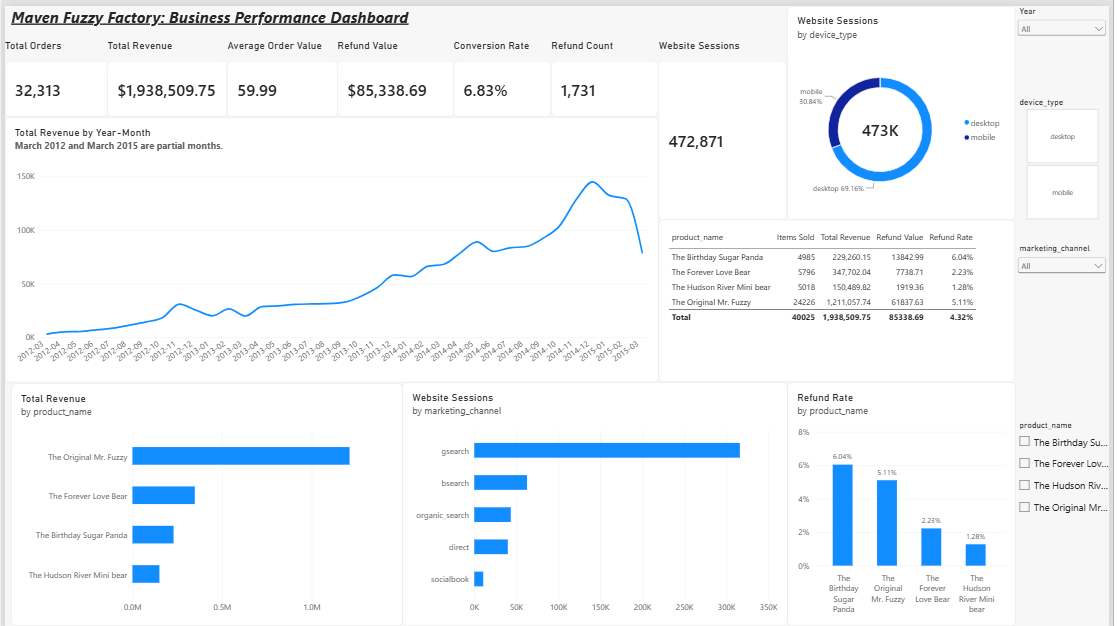

The dashboard page shown, as its layout file describes it:
{"tool":"powerbi","page":{"name":"Page 1","canvas":[1920,1080],"ordinal":0},"visuals":[{"type":"cardVisual","title":"Average Order Value","fields":{"Data":["Date Table.Average Order Value"]},"box":[387,100,191.4,187.9],"z":0},{"type":"cardVisual","title":"Conversion Rate","fields":{"Data":["Date Table.Conversion Rate"]},"box":[780.4,100,169,187.9],"z":1000},{"type":"lineChart","fields":{"Category":["Date Table.Year-Month"],"Y":["Date Table.Total Revenue"]},"box":[0,287,1360.3,367.2],"z":2000},{"type":"clusteredBarChart","fields":{"Category":["products.product_name"],"Y":["Date Table.Total Revenue"]},"box":[10.9,656.5,680.4,421.7],"z":3000},{"type":"clusteredBarChart","fields":{"Category":["website_sessions.marketing_channel"],"Y":["Date Table.Website Sessions"]},"box":[691.3,654.3,669.6,423.9],"z":4000},{"type":"cardVisual","title":"Total Orders","fields":{"Data":["Date Table.Total Orders Display"]},"box":[0,100,179.3,187.9],"z":5000},{"type":"cardVisual","title":"Total Revenue","fields":{"Data":["Date Table.Total Revenue Display"]},"box":[178.3,100,208.6,187.9],"z":6000},{"type":"cardVisual","title":"Refund Value","fields":{"Data":["Date Table.Refund Value Display"]},"box":[578.3,100,201.7,187.9],"z":7000},{"type":"cardVisual","title":"Refund Count","fields":{"Data":["Date Table.Refund Count Display"]},"box":[950,100,187.9,187.9],"z":8000},{"type":"cardVisual","title":"Website Sessions","fields":{"Data":["website_sessions.Website Sessions Display"]},"box":[1137,100,223.9,187],"z":9000},{"type":"donutChart","fields":{"Category":["website_sessions.device_type"],"Y":["Date Table.Website Sessions"]},"box":[1360.3,0,396.6,367.2],"z":10000},{"type":"tableEx","fields":{"Values":["products.product_name","Date Table.Items Sold","Date Table.Total Revenue","Date Table.Refund Value","Date Table.Refund Rate"]},"box":[1360.3,369,396.6,286.2],"z":10001},{"type":"clusteredColumnChart","fields":{"Category":["products.product_name"],"Y":["Date Table.Refund Rate"]},"box":[1360.3,655.2,396.6,424.1],"z":10002},{"type":"slicer","fields":{"Values":["Date Table.Year"]},"box":[1756.9,0,163.8,158.6],"z":10003},{"type":"slicer","fields":{"Values":["website_sessions.device_type"]},"box":[1756.9,158.6,163.8,213.8],"z":10004},{"type":"slicer","fields":{"Values":["website_sessions.marketing_channel"]},"box":[1756.9,412.1,163,286],"z":10005},{"type":"slicer","fields":{"Values":["products.product_name"]},"box":[1756.9,719,163.8,360.3],"z":10006},{"type":"textbox","box":[10.9,0,1350,78.3],"z":10007}]}

Visuals, with their boxes in screenshot pixels (x1, y1, x2, y2), scaled from the page's 1920x1080 canvas onto the 1117x626 screenshot:
"Average Order Value" cardVisual: {"x1": 225, "y1": 58, "x2": 336, "y2": 167}
"Conversion Rate" cardVisual: {"x1": 454, "y1": 58, "x2": 552, "y2": 167}
lineChart - Date Table.Year-Month x Date Table.Total Revenue: {"x1": 0, "y1": 166, "x2": 791, "y2": 379}
clusteredBarChart - products.product_name x Date Table.Total Revenue: {"x1": 6, "y1": 381, "x2": 402, "y2": 625}
clusteredBarChart - website_sessions.marketing_channel x Date Table.Website Sessions: {"x1": 402, "y1": 379, "x2": 792, "y2": 625}
"Total Orders" cardVisual: {"x1": 0, "y1": 58, "x2": 104, "y2": 167}
"Total Revenue" cardVisual: {"x1": 104, "y1": 58, "x2": 225, "y2": 167}
"Refund Value" cardVisual: {"x1": 336, "y1": 58, "x2": 454, "y2": 167}
"Refund Count" cardVisual: {"x1": 553, "y1": 58, "x2": 662, "y2": 167}
"Website Sessions" cardVisual: {"x1": 661, "y1": 58, "x2": 792, "y2": 166}
donutChart - website_sessions.device_type x Date Table.Website Sessions: {"x1": 791, "y1": 0, "x2": 1022, "y2": 213}
tableEx - products.product_name x Date Table.Items Sold: {"x1": 791, "y1": 214, "x2": 1022, "y2": 380}
clusteredColumnChart - products.product_name x Date Table.Refund Rate: {"x1": 791, "y1": 380, "x2": 1022, "y2": 625}
slicer - Date Table.Year: {"x1": 1022, "y1": 0, "x2": 1116, "y2": 92}
slicer - website_sessions.device_type: {"x1": 1022, "y1": 92, "x2": 1116, "y2": 216}
slicer - website_sessions.marketing_channel: {"x1": 1022, "y1": 239, "x2": 1116, "y2": 405}
slicer - products.product_name: {"x1": 1022, "y1": 417, "x2": 1116, "y2": 625}
textbox: {"x1": 6, "y1": 0, "x2": 792, "y2": 45}
